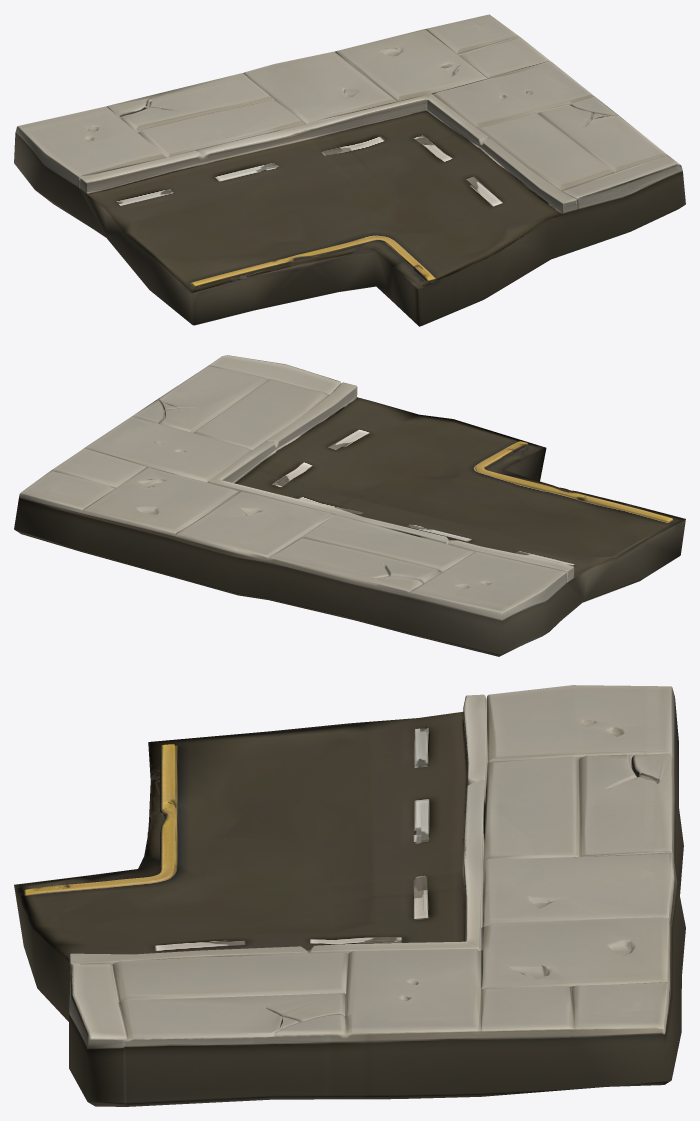
The model's file is road+segment+3d+model.fbx.
The picture shows the model from 3 angles, top to bottom: view 1: azimuth 30°, elevation 25°; view 2: azimuth 150°, elevation 25°; view 3: azimuth 270°, elevation 25°; orthographic projection. The views are drawn at different scales.
Parts seen in each view (by area): view 1: tripo_3be200d8_a38f_4ad9_9d36_be3980d3d98a; view 2: tripo_3be200d8_a38f_4ad9_9d36_be3980d3d98a; view 3: tripo_3be200d8_a38f_4ad9_9d36_be3980d3d98a.
Part boxes in pixels (box(x1,y1,x2,y2)): tripo_3be200d8_a38f_4ad9_9d36_be3980d3d98a: box(14, 14, 685, 326); tripo_3be200d8_a38f_4ad9_9d36_be3980d3d98a: box(14, 355, 685, 656); tripo_3be200d8_a38f_4ad9_9d36_be3980d3d98a: box(14, 685, 685, 1106).
Size of the model in its own units: 0.9995 by 0.1772 by 0.8042.
1 material, 1 textured.
